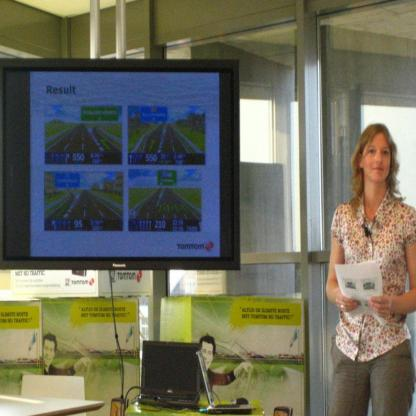board: (134, 342, 202, 414)
